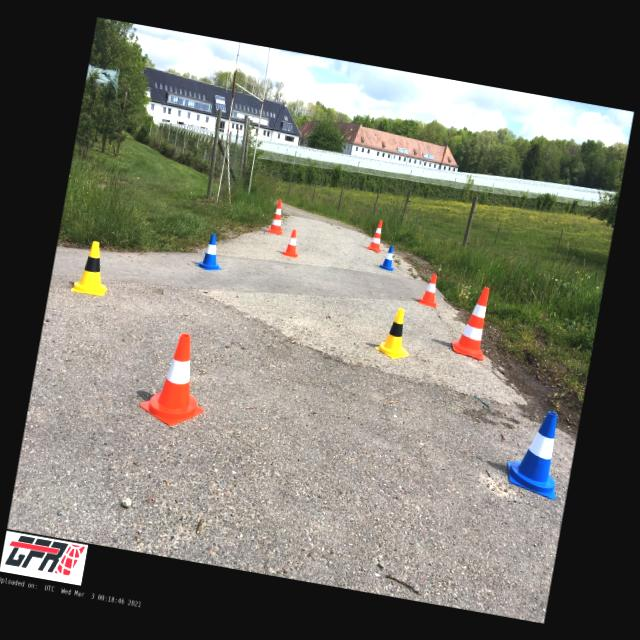blue_cone: (502, 405, 570, 500), (194, 231, 227, 272), (379, 244, 397, 271)
large_orange_cone: (450, 283, 496, 360), (266, 198, 288, 234), (366, 218, 386, 252)
orange_cone: (137, 328, 216, 430), (417, 272, 442, 306), (282, 228, 302, 257)
yellow_cone: (70, 238, 114, 296), (372, 305, 416, 361)
